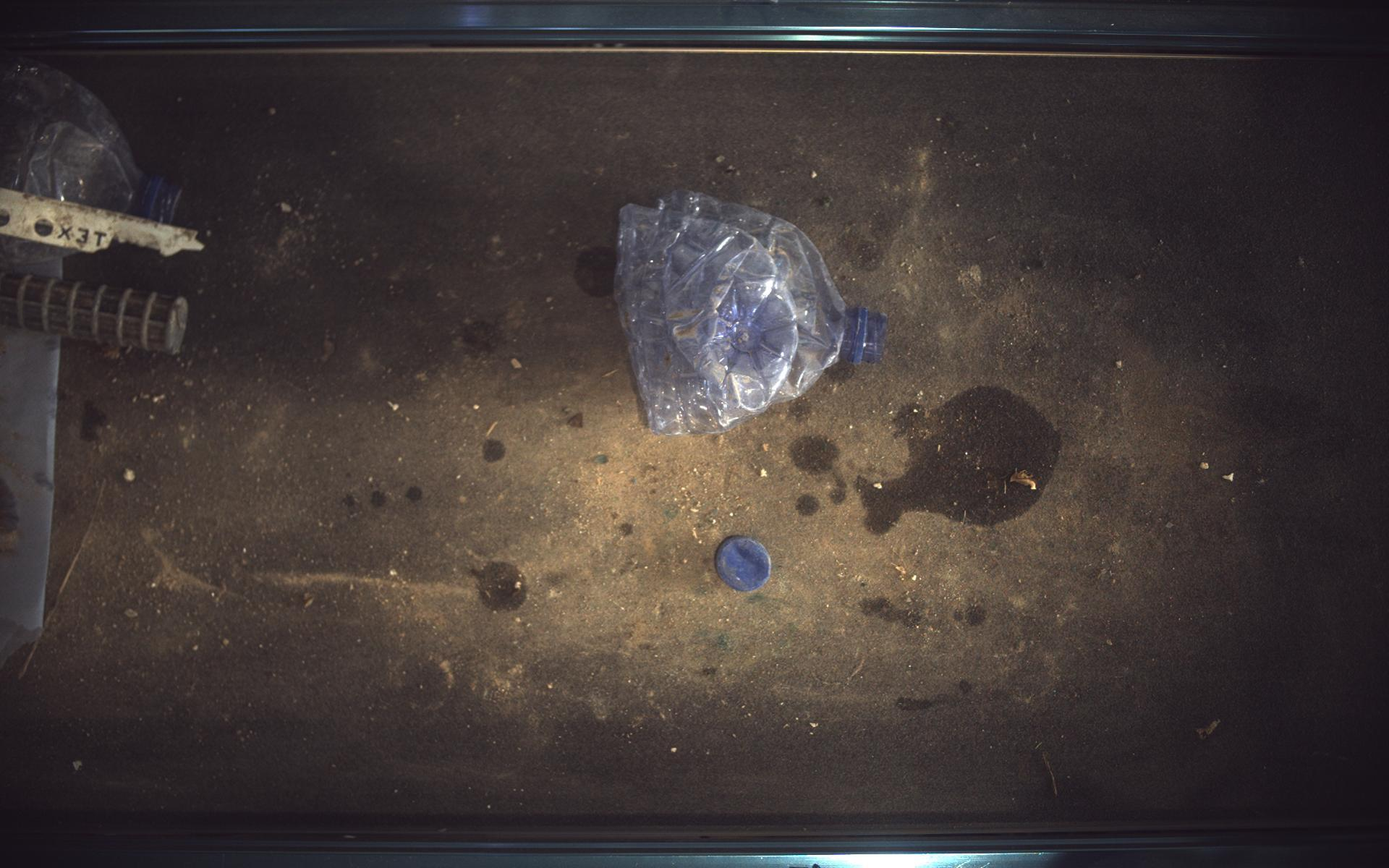general_w: (616, 190, 888, 435), (717, 536, 773, 592)
